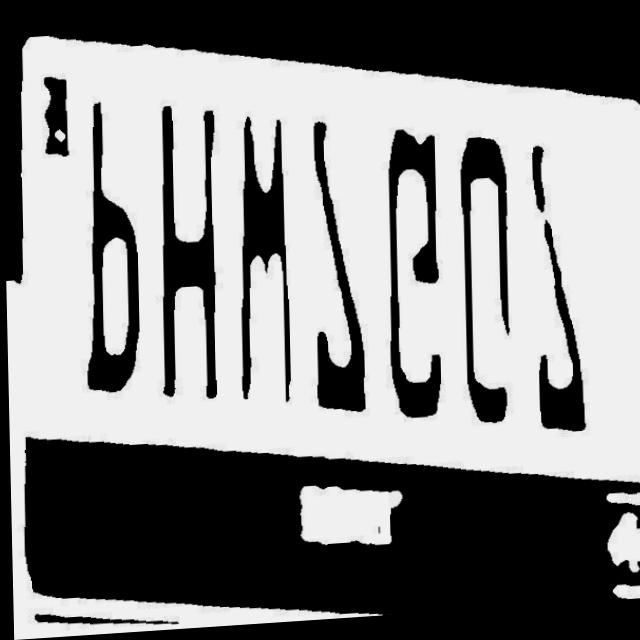0: (454, 152, 524, 450)
7: (299, 129, 370, 432), (530, 149, 600, 456)
g: (376, 126, 457, 446)
h: (143, 106, 220, 422)
p: (67, 106, 142, 417)
w: (221, 105, 298, 436)
